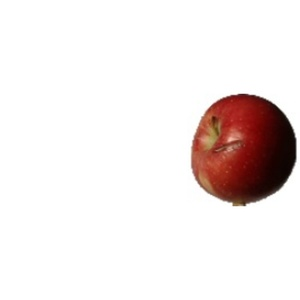maçã braeburn: (188, 92, 297, 203)
